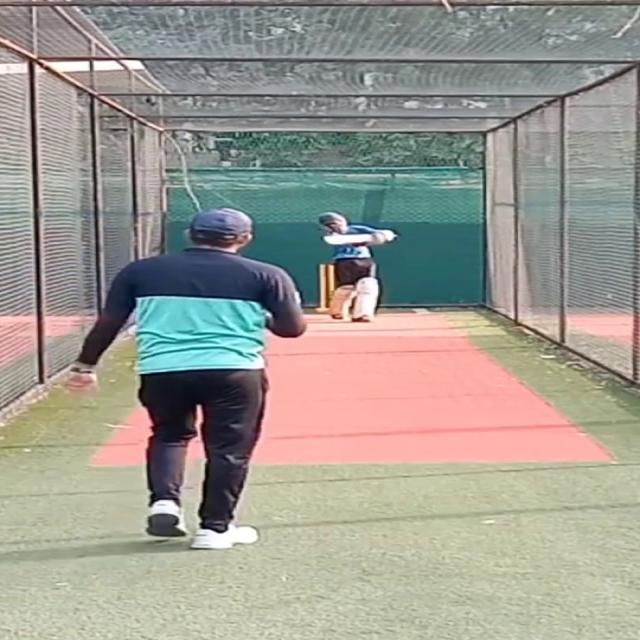stump: (313, 262, 333, 312)
